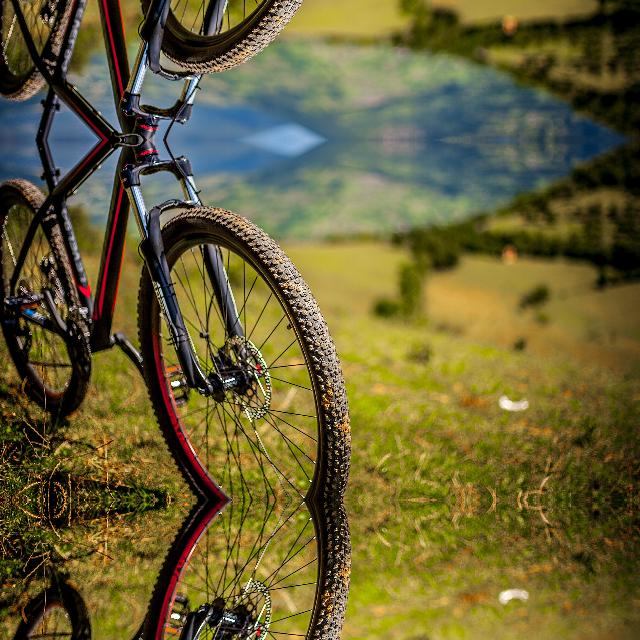obstacle: (0, 140, 370, 500), (0, 0, 370, 140), (0, 500, 370, 640)
